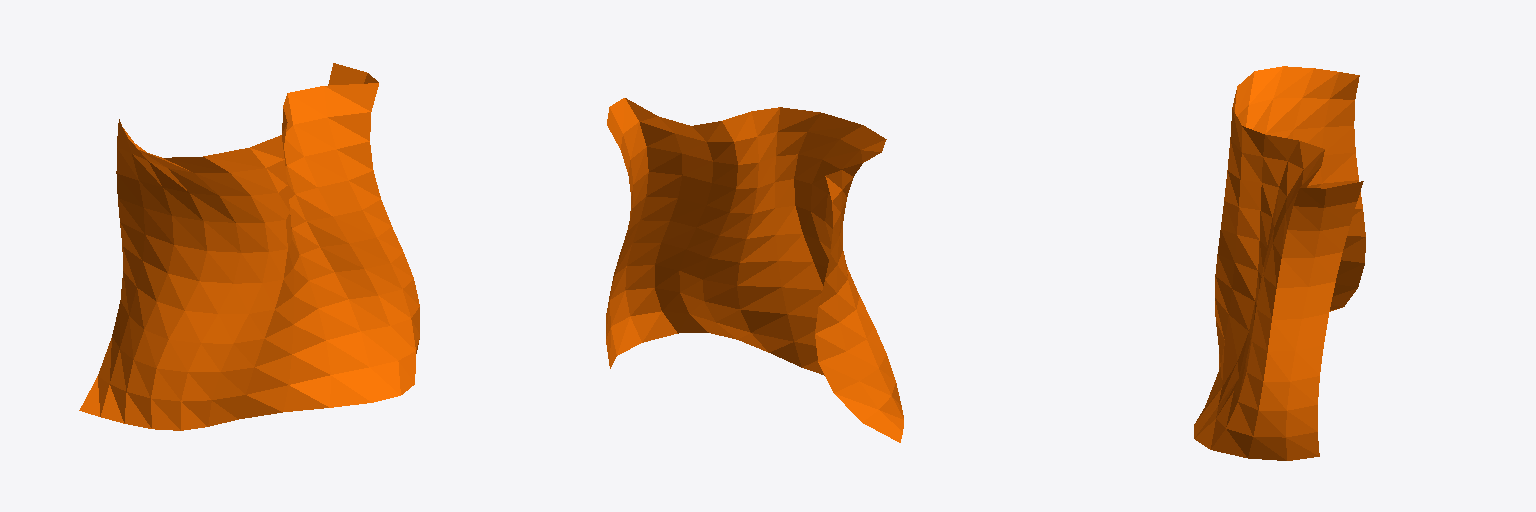
The picture shows the model from 3 angles: view 1: azimuth 30°, elevation 25°; view 2: azimuth 150°, elevation 25°; view 3: azimuth 270°, elevation 25°; orthographic projection.
Parts seen in each view (by area): view 1: nurbsToPoly1; view 2: nurbsToPoly1; view 3: nurbsToPoly1.
Part boxes in pixels (bbox=[...]): nurbsToPoly1: bbox=[79, 63, 419, 430]; nurbsToPoly1: bbox=[606, 98, 903, 442]; nurbsToPoly1: bbox=[1194, 66, 1365, 460].
Bounding box in the file's own units: 2.89 × 2.38 × 1.39.
Materials: 1 (1 with a texture image).